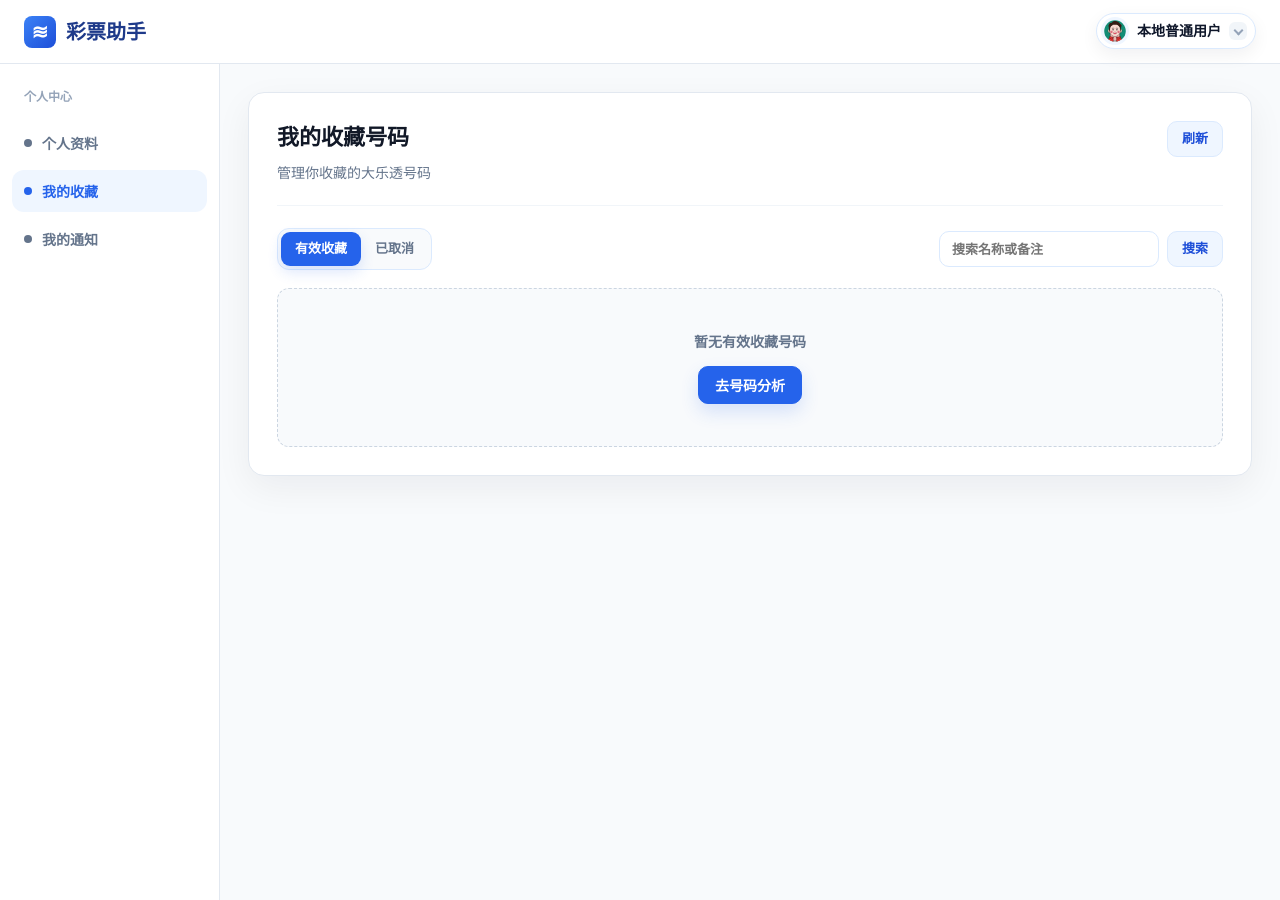
FavoritesView › does not show analyze entry when cancelled favorites are empty
Click the button with test id "cancelled-filter".
click(394, 249)  # box [361,232,428,266]
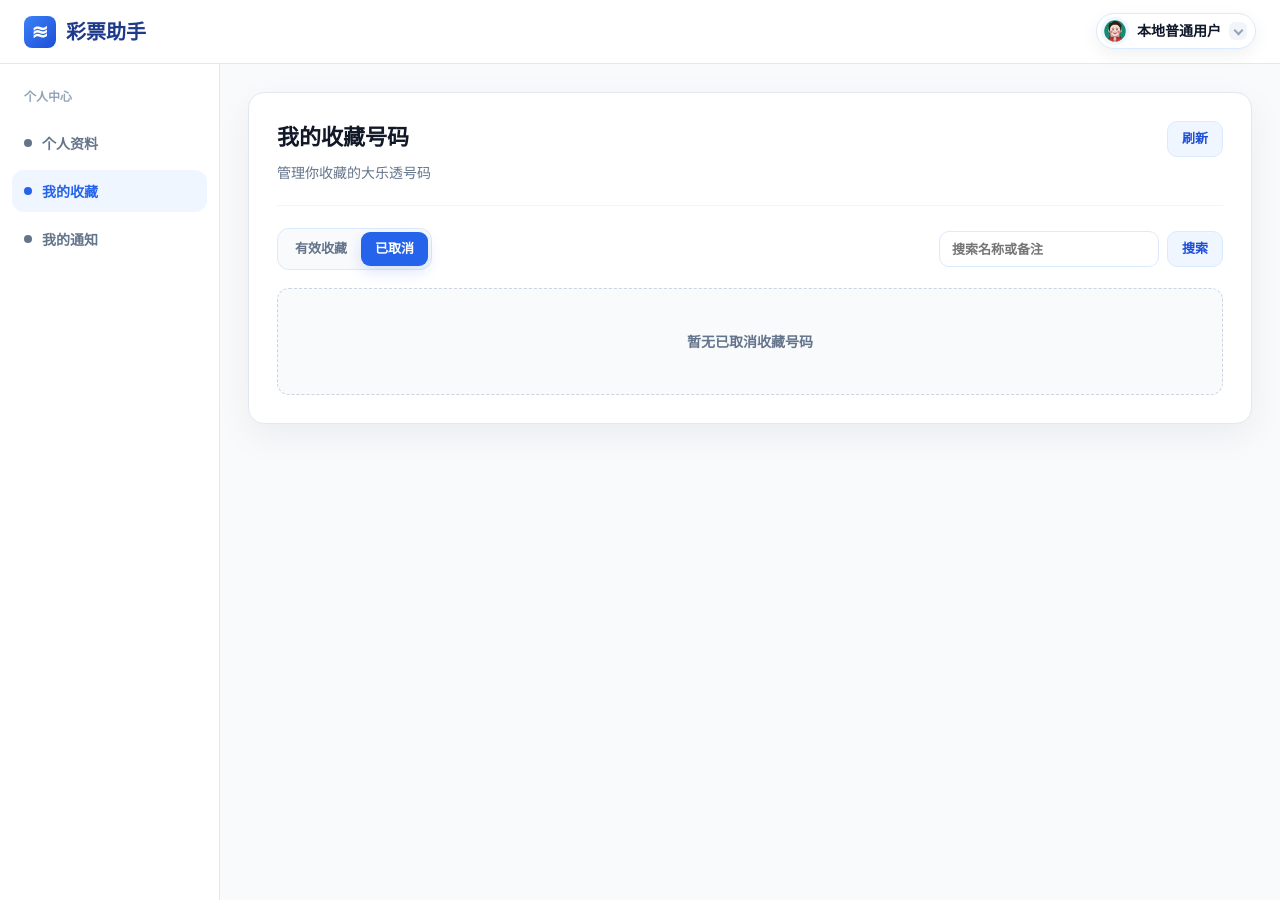
Expected: the text "暂无已取消收藏号码" is shown, [687,331,813,352]
Expected: the text "去号码分析" is gone
